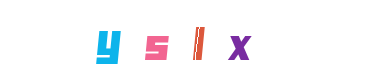1: (146, 0, 226, 80)
S: (132, 0, 212, 80)
X: (199, 0, 279, 80)
Y: (68, 0, 148, 80)
